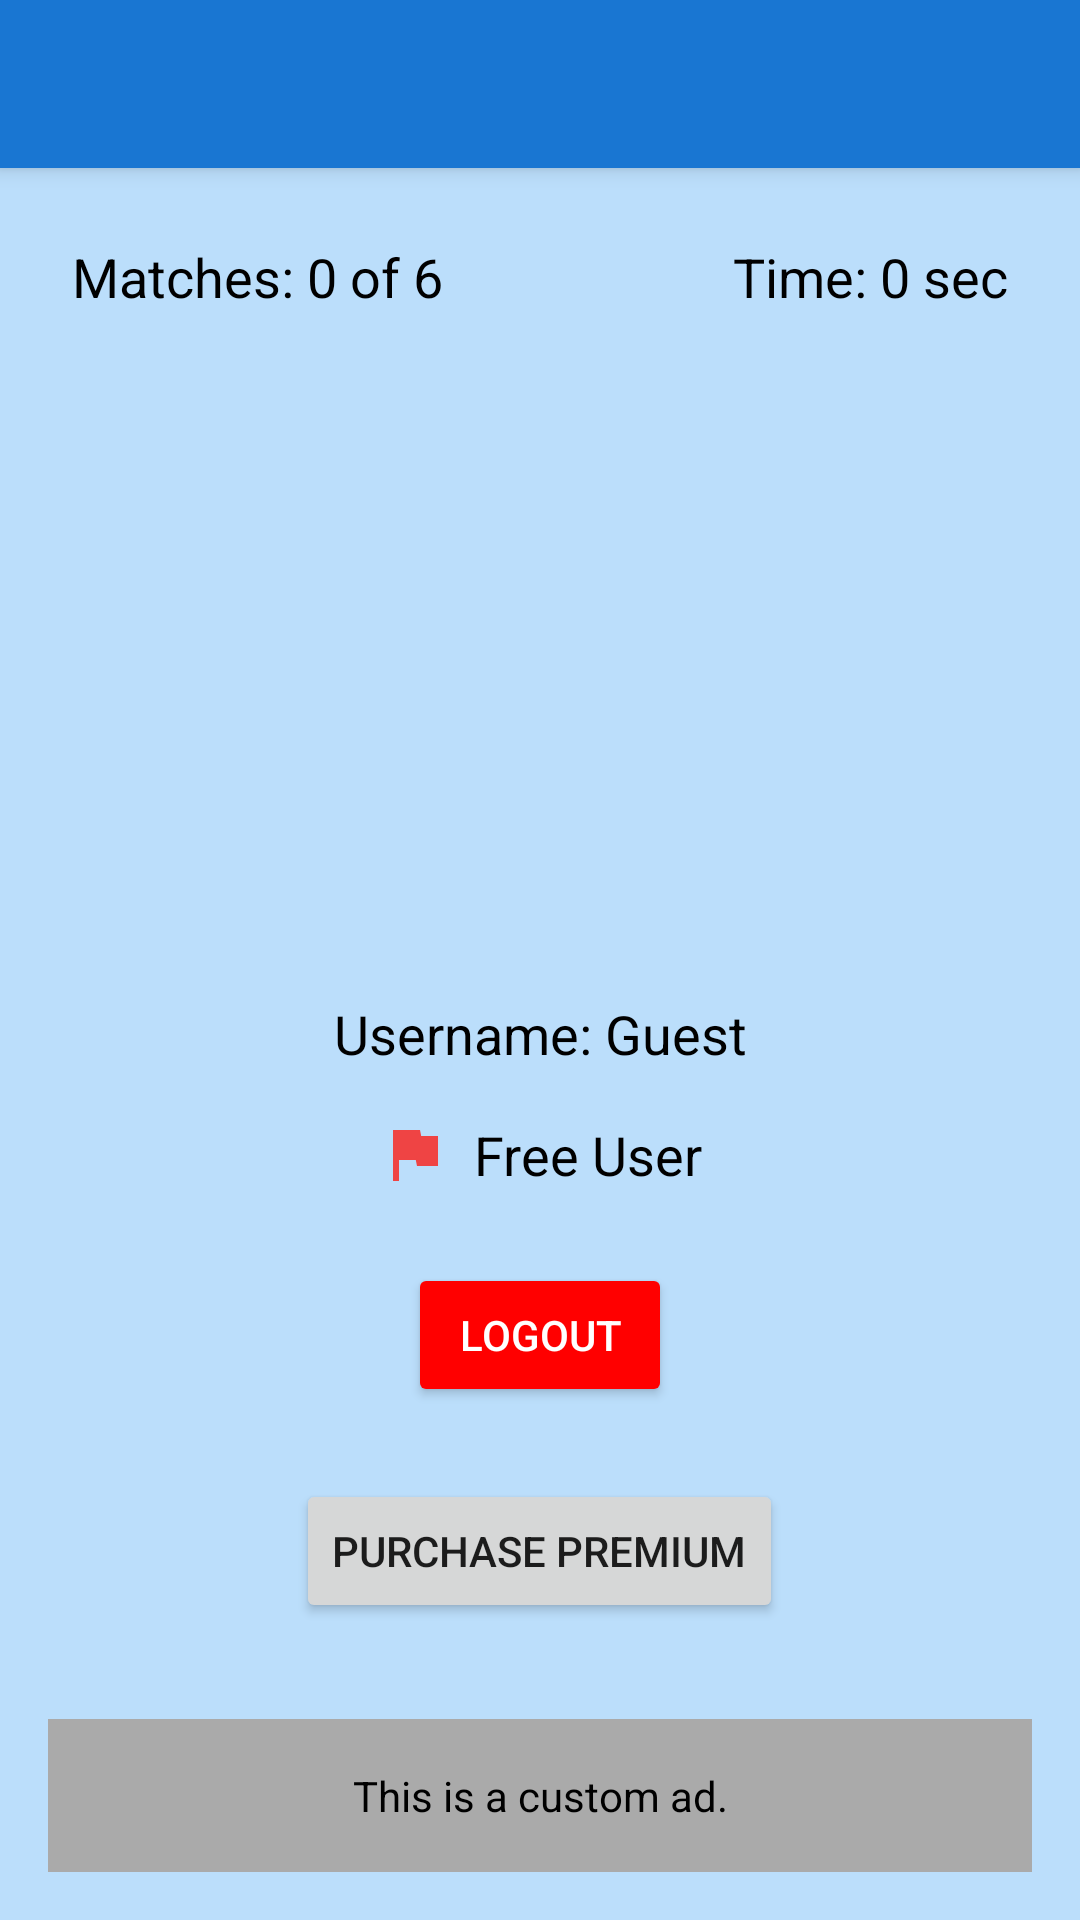

Icons on this 1080w x 1920h Android screen, each with the point to tap as [x,y]:
User status icon: [415,1155]
